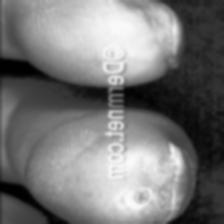Unclassified: (123, 0, 179, 68), (117, 182, 167, 219)
